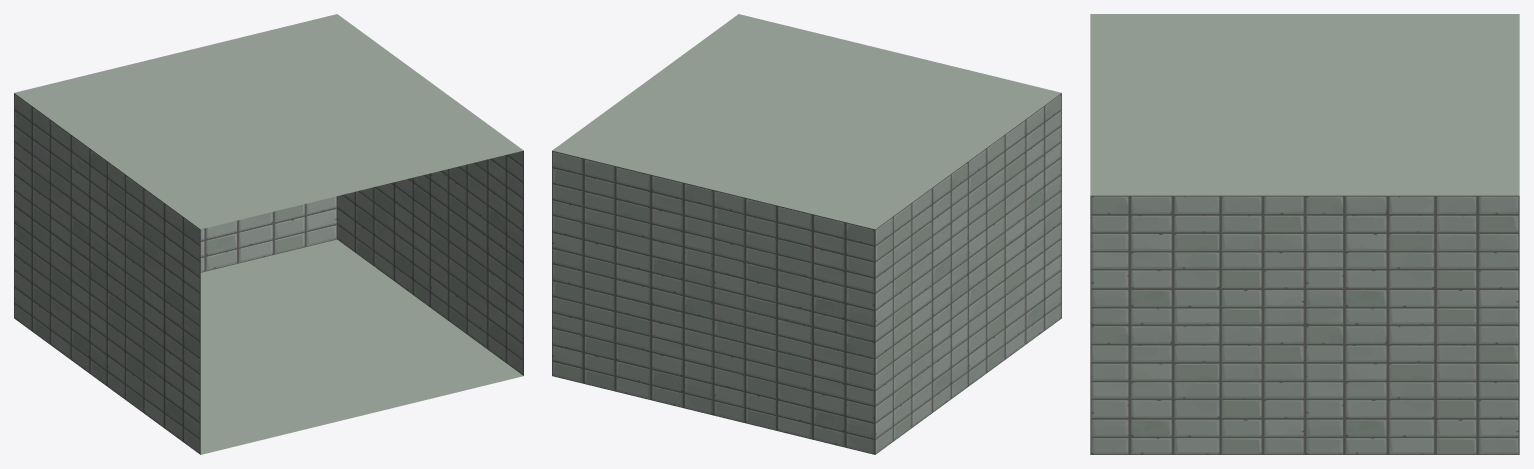
File: Bock_A1(0).fbx
The picture shows the model from 3 angles, left to right: view 1: azimuth 30°, elevation 25°; view 2: azimuth 150°, elevation 25°; view 3: azimuth 270°, elevation 25°; orthographic projection. The views are drawn at different scales.
Visible parts, largest first — view 1: Bock_A1; view 2: Bock_A1; view 3: Bock_A1.
Boxes of the visible parts, bbox=[...] form: Bock_A1: bbox=[14, 14, 523, 454]; Bock_A1: bbox=[552, 14, 1061, 454]; Bock_A1: bbox=[1090, 14, 1519, 454].
Size of the model in its own units: 600 by 400 by 600.
